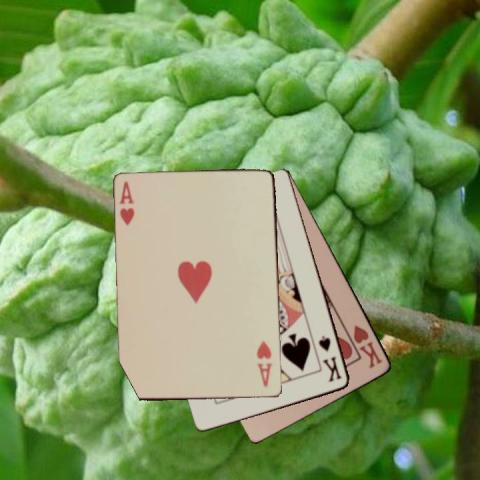Ah: (254, 338, 273, 389), (117, 179, 136, 227)
Kh: (350, 322, 384, 370)
Ks: (316, 333, 343, 383)
